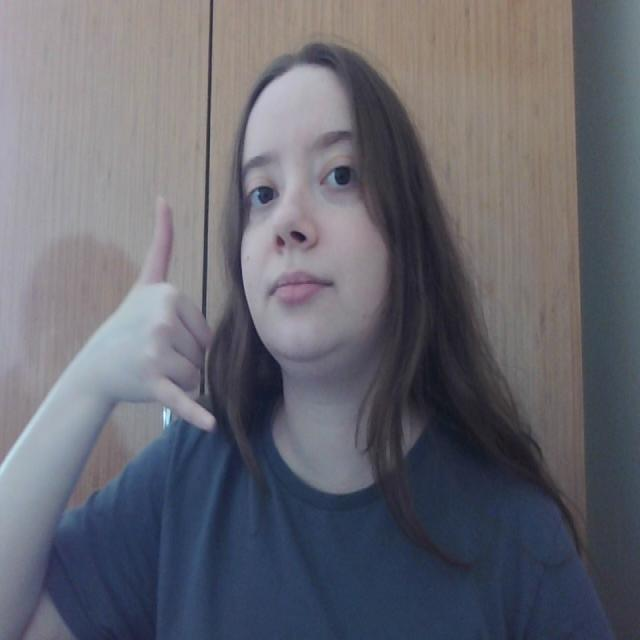Telefon: (106, 186, 238, 436)
